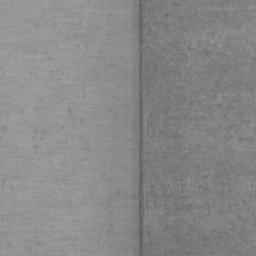Welding line: (137, 0, 145, 255)
